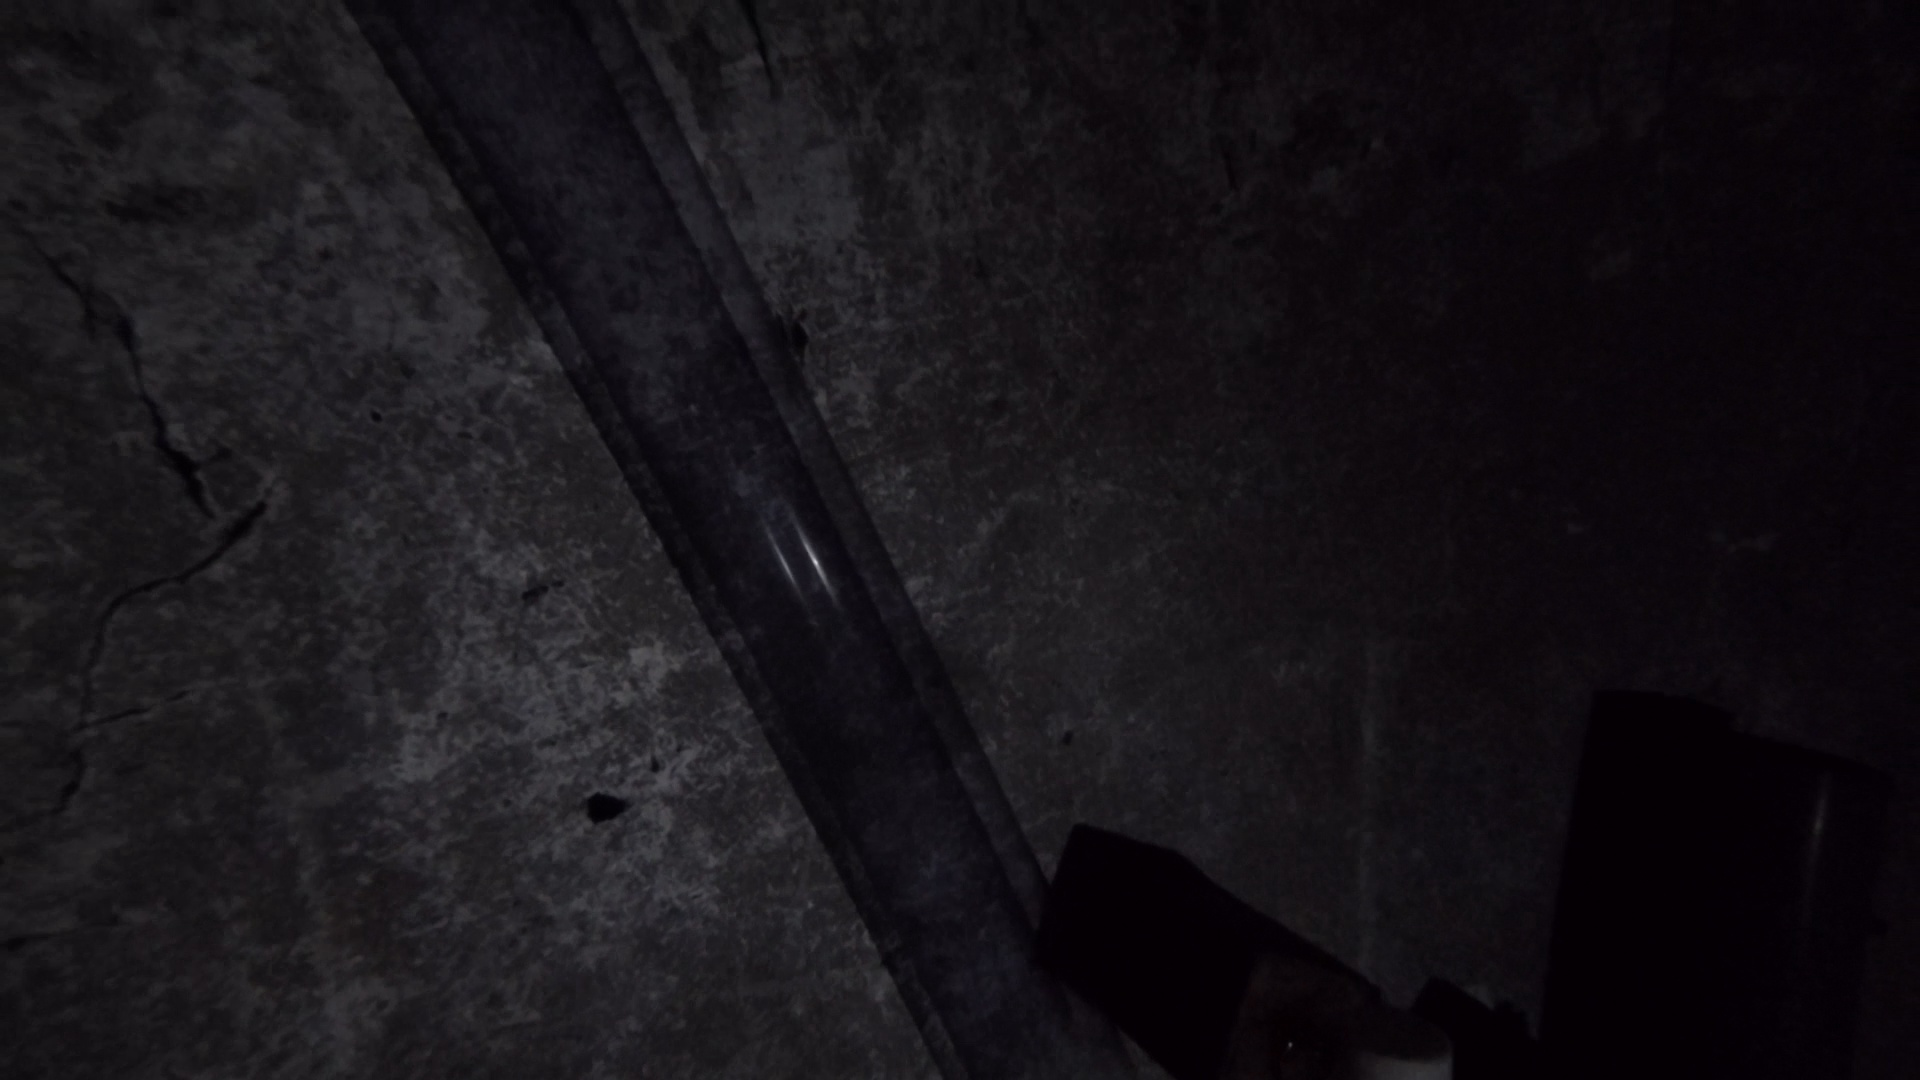led_block: (1031, 823, 1385, 1080)
pipe: (363, 1, 1137, 1077), (1592, 731, 1890, 1080), (1358, 1010, 1455, 1080)
